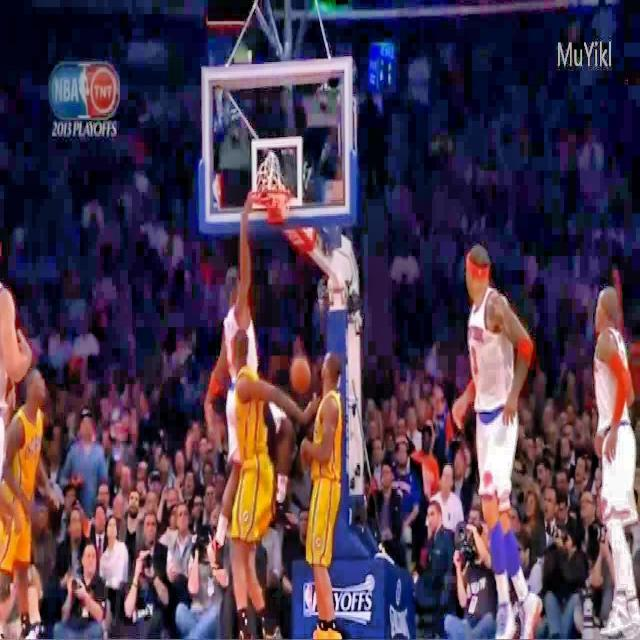board: (290, 356, 311, 394)
